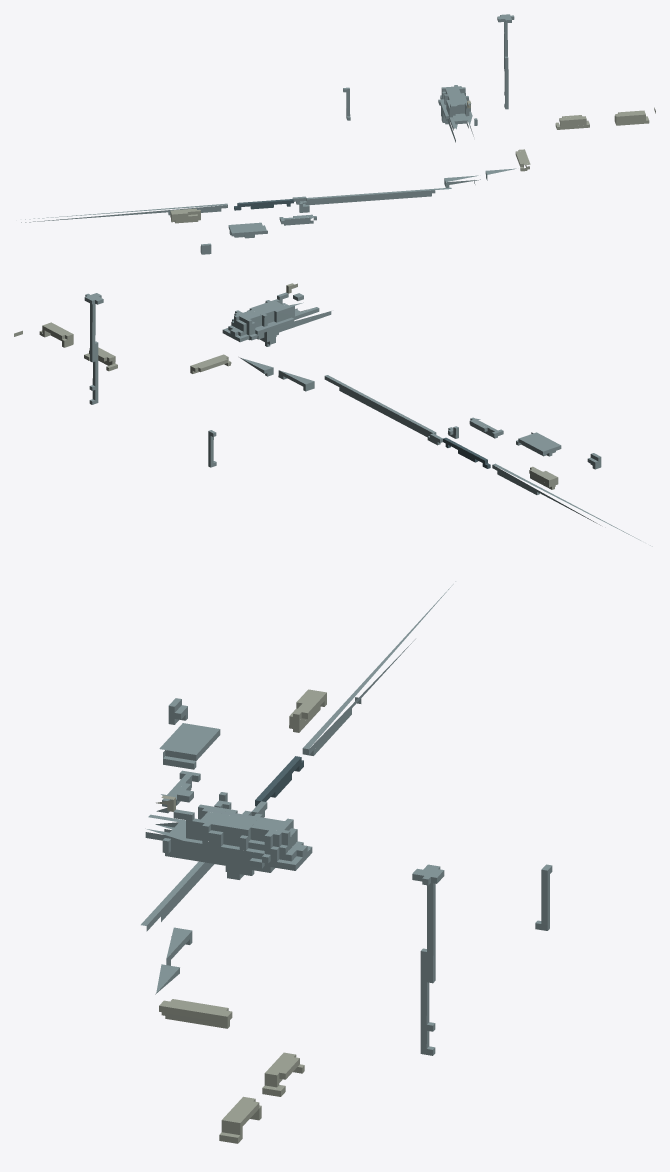
The picture shows the model from 3 angles, top to bottom: view 1: azimuth 30°, elevation 25°; view 2: azimuth 150°, elevation 25°; view 3: azimuth 270°, elevation 25°; orthographic projection. The views are drawn at different scales.
Parts seen in each view (by area): view 1: measured-industrial; view 2: measured-industrial; view 3: measured-industrial.
Boxes of the visible parts, left/top/right/bottom form: measured-industrial: left=21, top=14, right=655, bottom=254; measured-industrial: left=14, top=283, right=652, bottom=546; measured-industrial: left=141, top=581, right=552, bottom=1143.
Size of the model in its own units: 308 by 50.41 by 97.87.
